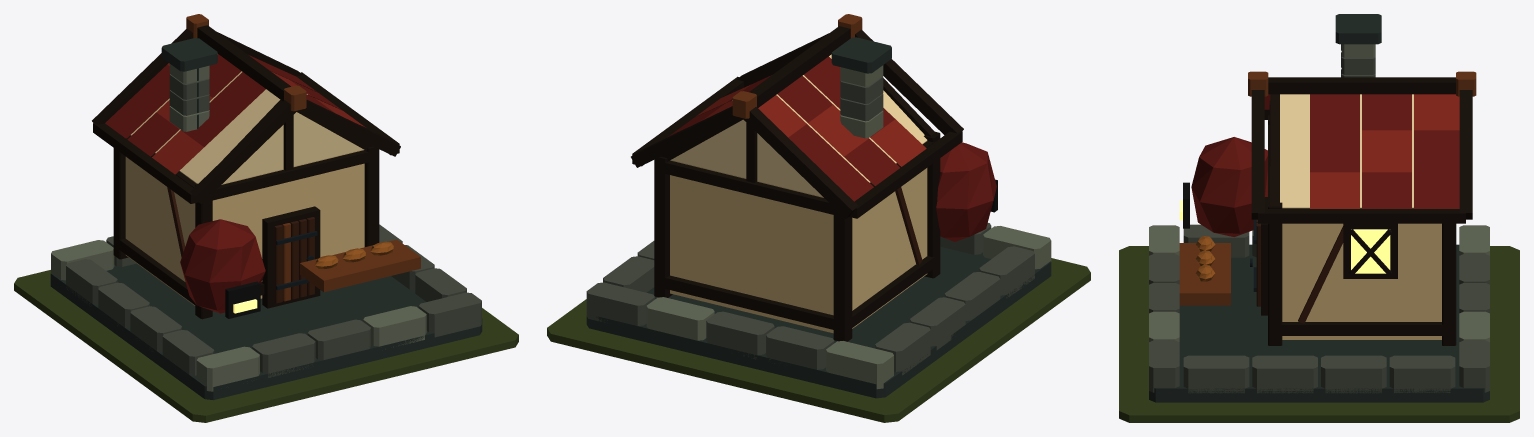
The model's file is bakery_t1.glb.
3 renders of one model, left to right at view 1: azimuth 30°, elevation 25°; view 2: azimuth 150°, elevation 25°; view 3: azimuth 270°, elevation 25°, orthographic. The views are drawn at different scales.
Visible parts, largest first — view 1: MMR | bakery | T01 Architecture.001, MMR | bakery | Tier 01 Ground.001; view 2: MMR | bakery | T01 Architecture.001, MMR | bakery | Tier 01 Ground.001; view 3: MMR | bakery | T01 Architecture.001, MMR | bakery | Tier 01 Ground.001.
Part boxes in pixels (x1,y1,x2,y2): MMR | bakery | T01 Architecture.001: (50, 14, 482, 400); MMR | bakery | Tier 01 Ground.001: (14, 270, 518, 422); MMR | bakery | T01 Architecture.001: (586, 14, 1051, 398); MMR | bakery | Tier 01 Ground.001: (547, 258, 1090, 422); MMR | bakery | T01 Architecture.001: (1149, 14, 1489, 402); MMR | bakery | Tier 01 Ground.001: (1119, 246, 1519, 422).
Size of the model in its own units: 2.35 by 1.84 by 2.35.
2 materials, 1 textured.
